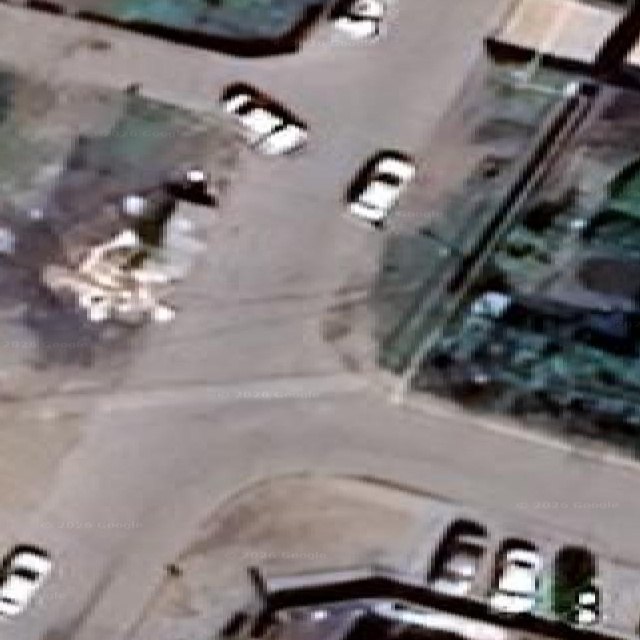car: (220, 83, 306, 154), (371, 600, 507, 639), (347, 151, 415, 226), (427, 520, 484, 595), (553, 546, 600, 623), (0, 546, 51, 616), (489, 543, 539, 612), (335, 0, 384, 39), (167, 167, 216, 203), (470, 291, 511, 319), (572, 584, 599, 623), (0, 226, 15, 253)
